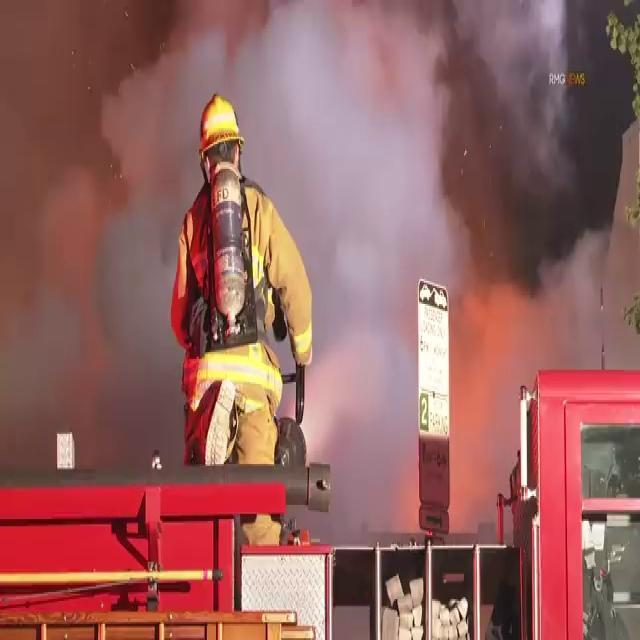Smoke: (284, 0, 628, 425), (7, 0, 223, 423)
